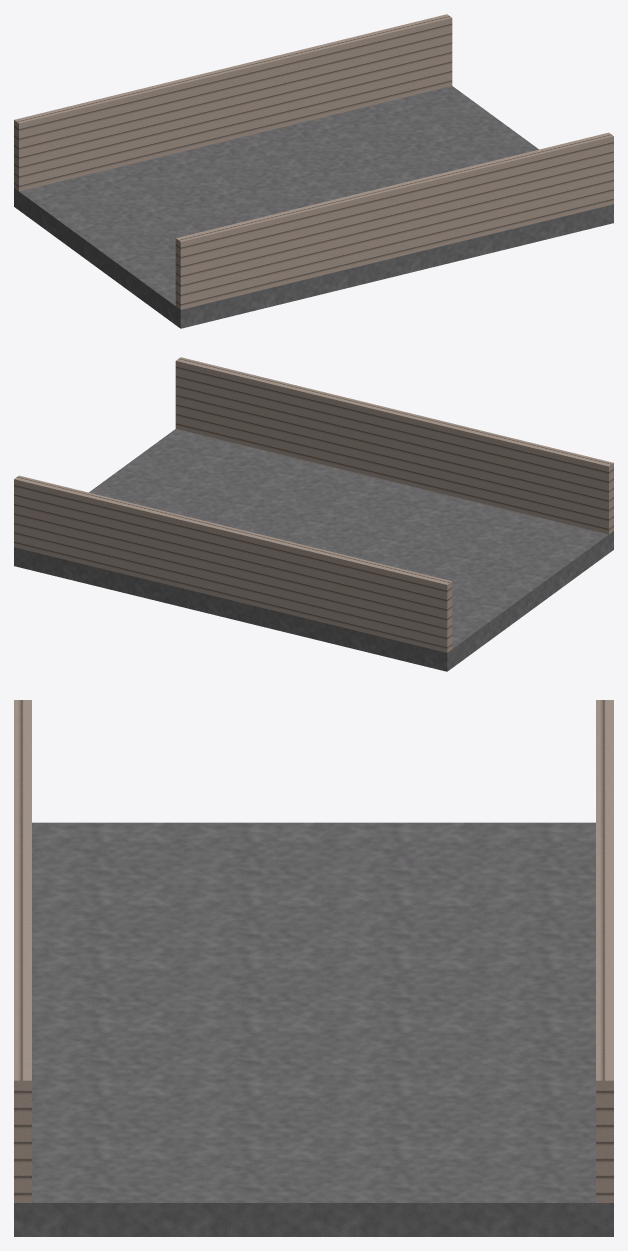
The model's file is bridge_small_farm_lane.glb.
3 views of the same model, one above another, from view 1: azimuth 30°, elevation 25°; view 2: azimuth 150°, elevation 25°; view 3: azimuth 270°, elevation 25° (orthographic). The views are drawn at different scales.
Parts seen in each view (by area): view 1: bridge_small_farm_lane-col; view 2: bridge_small_farm_lane-col; view 3: bridge_small_farm_lane-col.
Part boxes in pixels (x1,y1,x2,y2): bridge_small_farm_lane-col: (14,14,613,328); bridge_small_farm_lane-col: (14,357,613,671); bridge_small_farm_lane-col: (14,700,613,1236).
Size of the model in its own units: 6 by 1.15 by 4.
2 materials, 2 textured.
